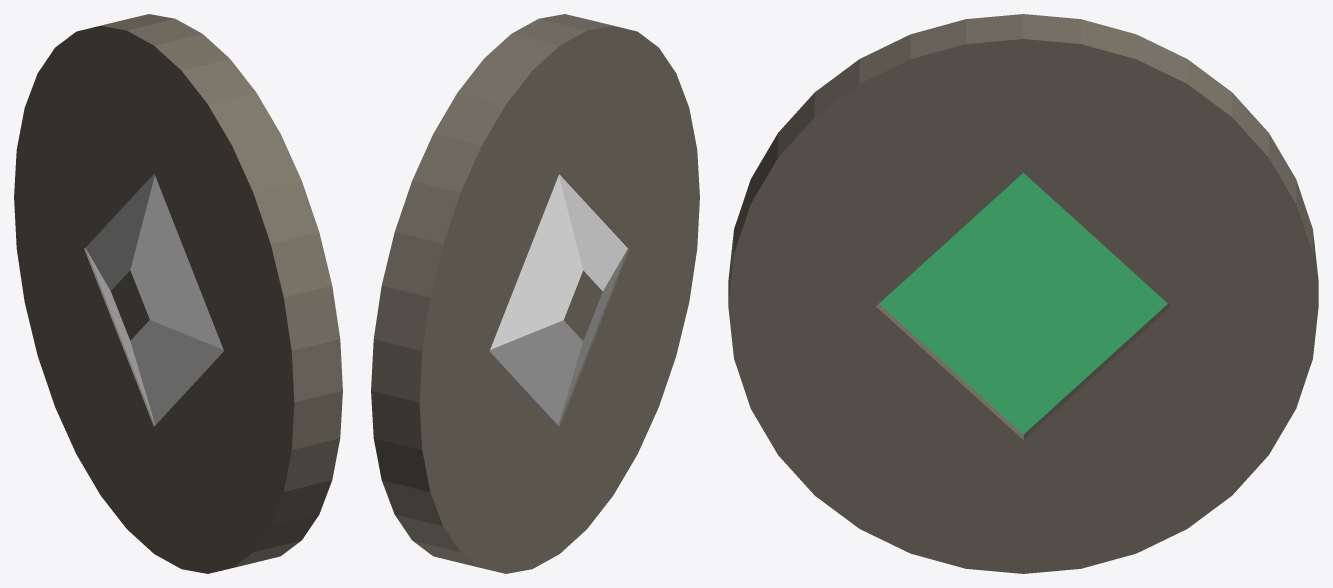
File: shield.fbx
3 renders of one model, left to right at view 1: azimuth 30°, elevation 25°; view 2: azimuth 150°, elevation 25°; view 3: azimuth 270°, elevation 25°, orthographic. The views are drawn at different scales.
Visible parts, largest first — view 1: shield; view 2: shield; view 3: shield.
Boxes of the visible parts, x1,y1,x2,y2 form: shield: (14, 14, 342, 573); shield: (371, 14, 699, 573); shield: (728, 14, 1318, 573).
Size of the model in its own units: 29.75 by 200 by 200.
